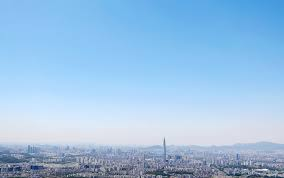sky: (1, 1, 282, 142)
vilage: (2, 143, 284, 176)
